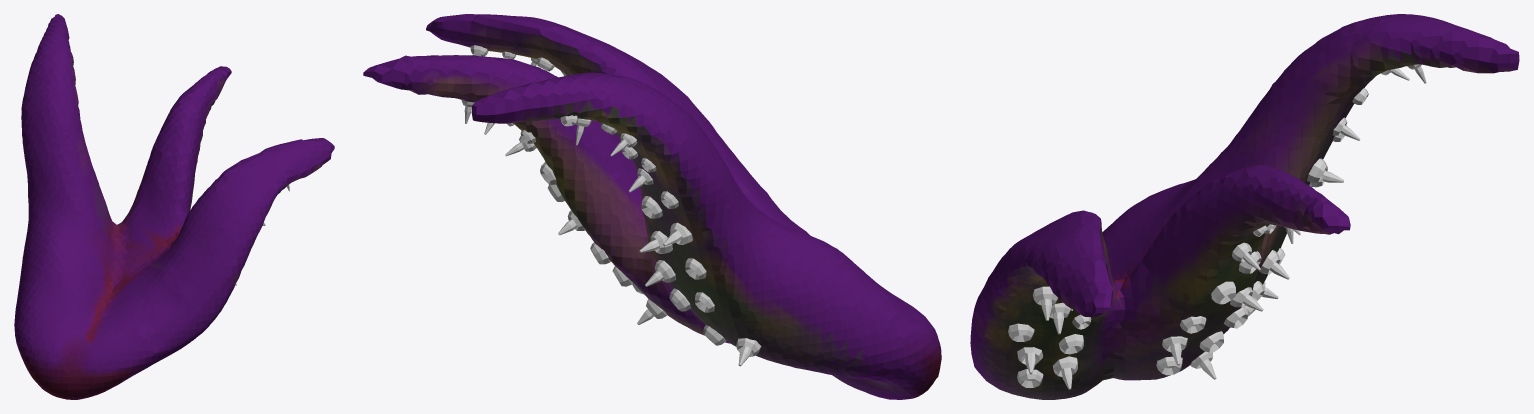
Rendered from Tentacle.fbx.
3 renders of one model, left to right at view 1: azimuth 30°, elevation 25°; view 2: azimuth 150°, elevation 25°; view 3: azimuth 270°, elevation 25°, orthographic. The views are drawn at different scales.
Parts seen in each view (by area): view 1: Tentacle; view 2: Tentacle, Spikes/Cups; view 3: Tentacle, Spikes/Cups.
Boxes of the visible parts, x1,y1,x2,y2 form: Tentacle: [14, 14, 334, 399]; Tentacle: [363, 14, 941, 399]; Spikes/Cups: [461, 45, 761, 366]; Tentacle: [970, 14, 1519, 399]; Spikes/Cups: [1008, 64, 1426, 389].
Bounding box in the file's own units: 562 × 445 × 509.
